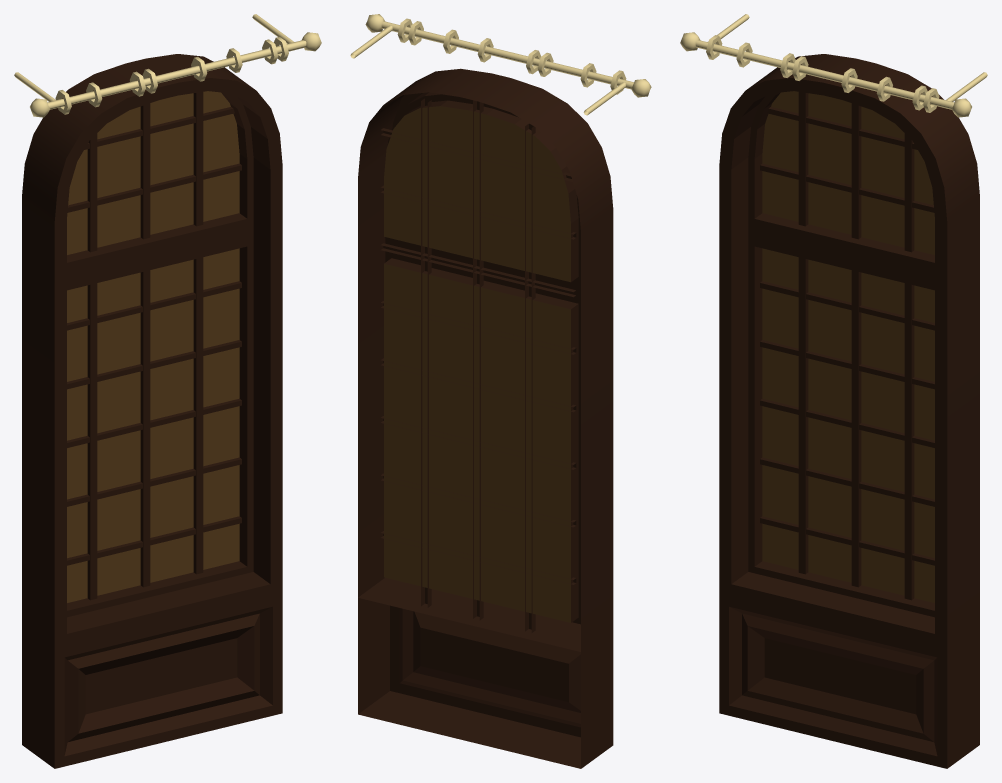
The model's file is SM_Window_01.fbx.
3 views of the same model, side by side, from view 1: azimuth 30°, elevation 25°; view 2: azimuth 150°, elevation 25°; view 3: azimuth 330°, elevation 25° (orthographic). The views are drawn at different scales.
Visible parts, largest first — view 1: SM_Window_01, Bar; view 2: SM_Window_01, Bar; view 3: SM_Window_01, Bar.
Boxes of the visible parts, x1,y1,x2,y2 form: SM_Window_01: (22, 54, 282, 768); Bar: (14, 14, 321, 117); SM_Window_01: (358, 68, 613, 768); Bar: (350, 14, 651, 115); SM_Window_01: (719, 54, 979, 768); Bar: (680, 14, 987, 117).
Bounding box in the file's own units: 49.9 × 112 × 13.8.
